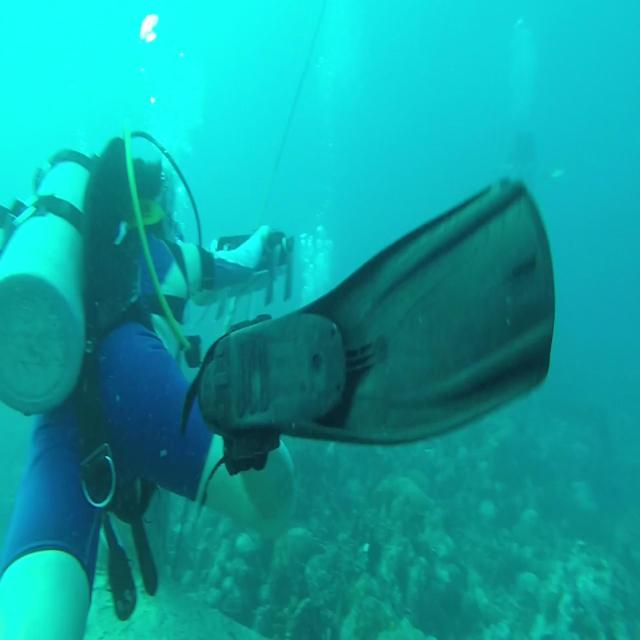human: (0, 132, 296, 638)
